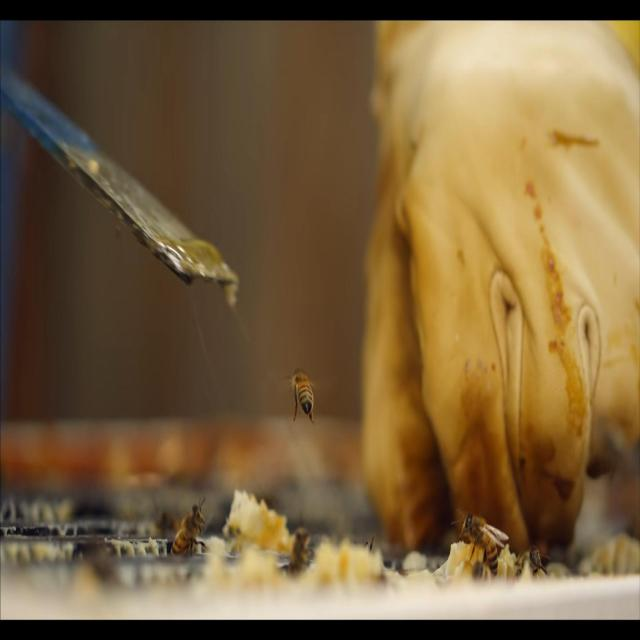honeybee: (461, 517, 499, 576), (174, 504, 204, 558), (290, 372, 319, 418)
